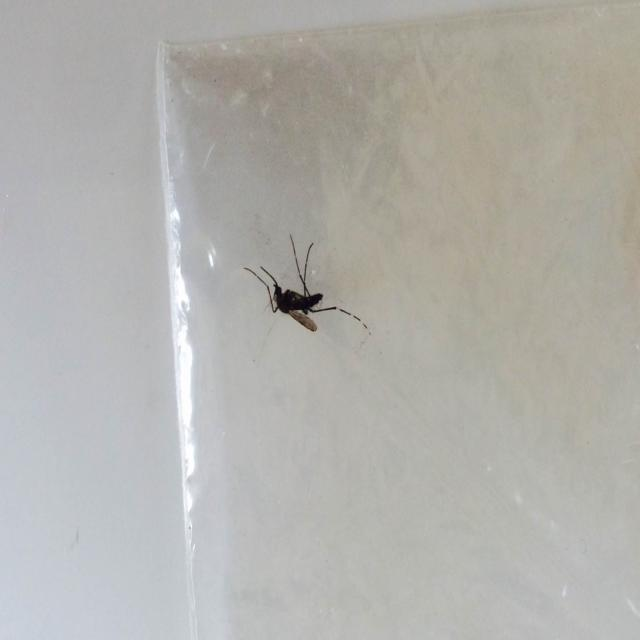albopictus: (244, 226, 372, 349)
